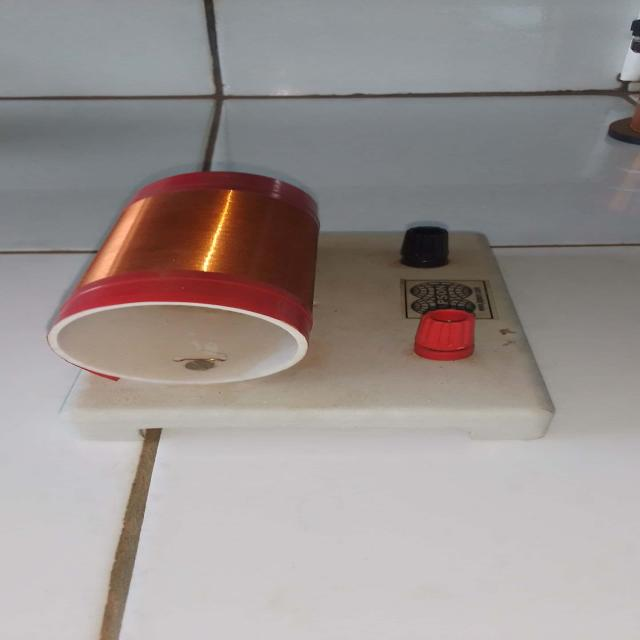Solenoid: (15, 168, 581, 441)
